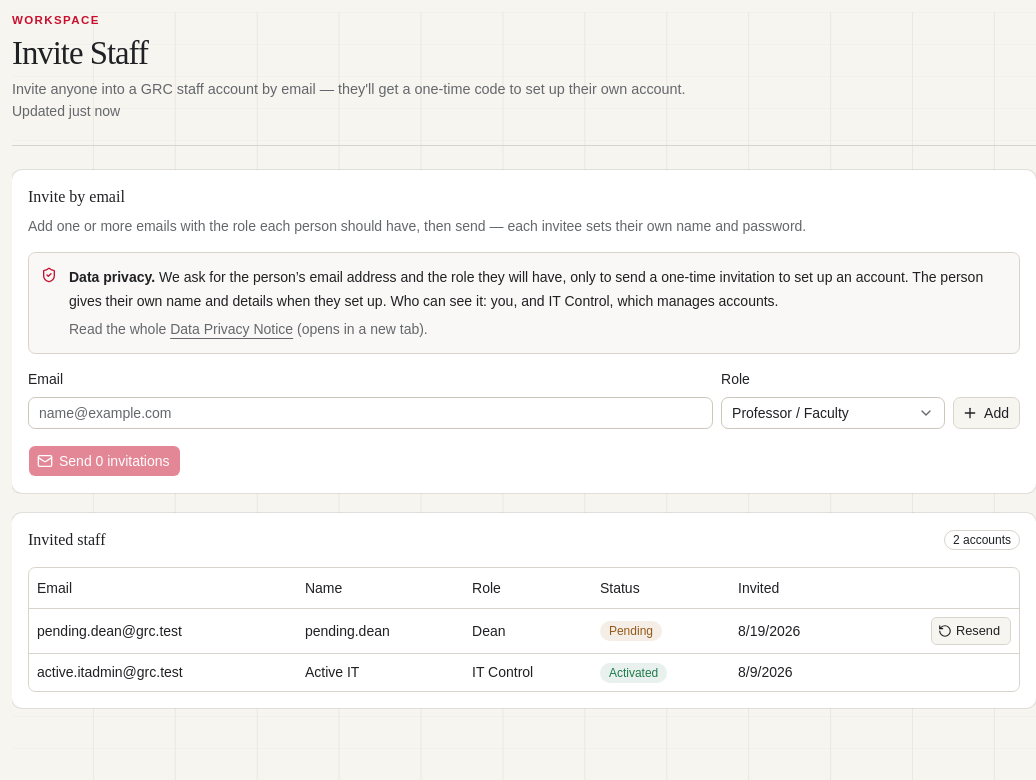
StaffInvitationWorkspace › queues one or more emails with a role each and sends them together
Check: the text "pending.dean@grc.test" is shown, box x1=29 y1=608 x2=297 y2=653
Type "first.new@grc.test" into the field labelled "Email". click: (371, 413)
box: x1=28 y1=397 x2=713 y2=429
Click the button "Add". click: (987, 413)
box: x1=953 y1=397 x2=1020 y2=429
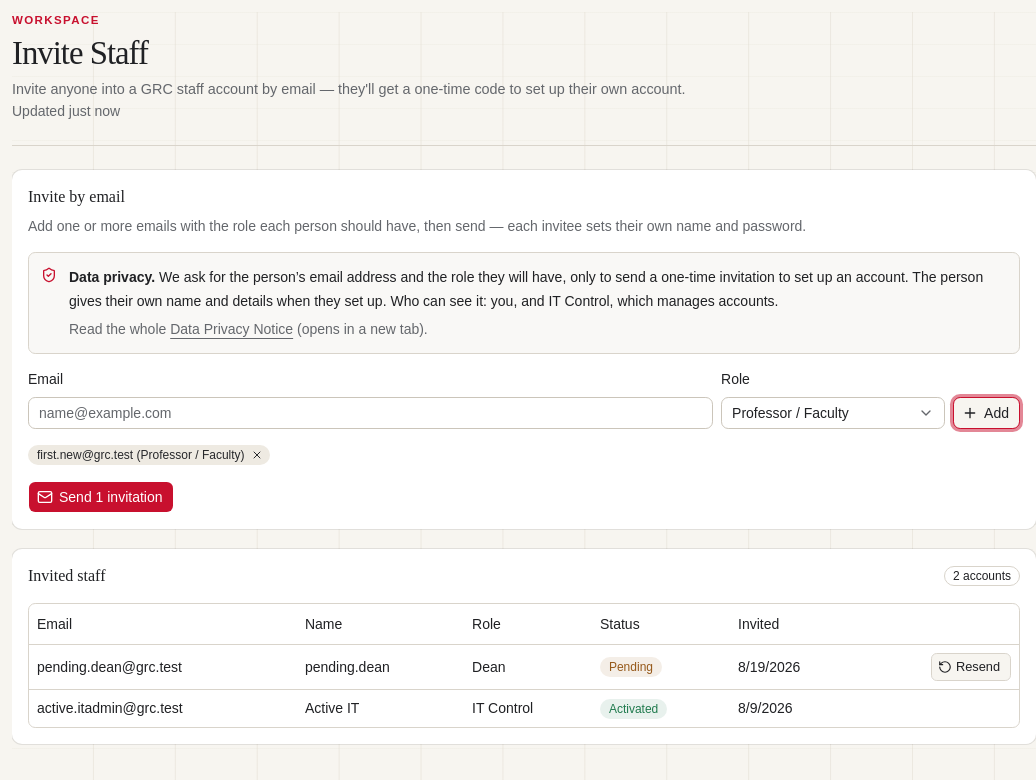
Click the dropdown named "Role". click: (833, 413)
box: x1=721 y1=397 x2=945 y2=429
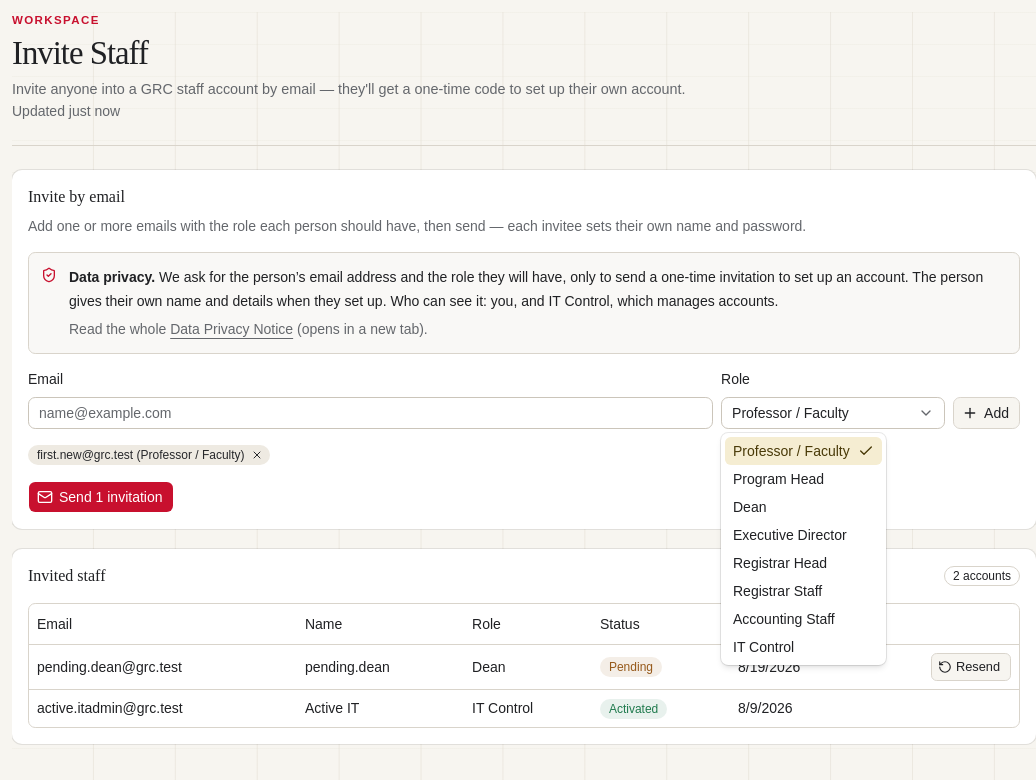
Click the option "IT Control". click: (764, 647)
box: x1=733 y1=639 x2=794 y2=655
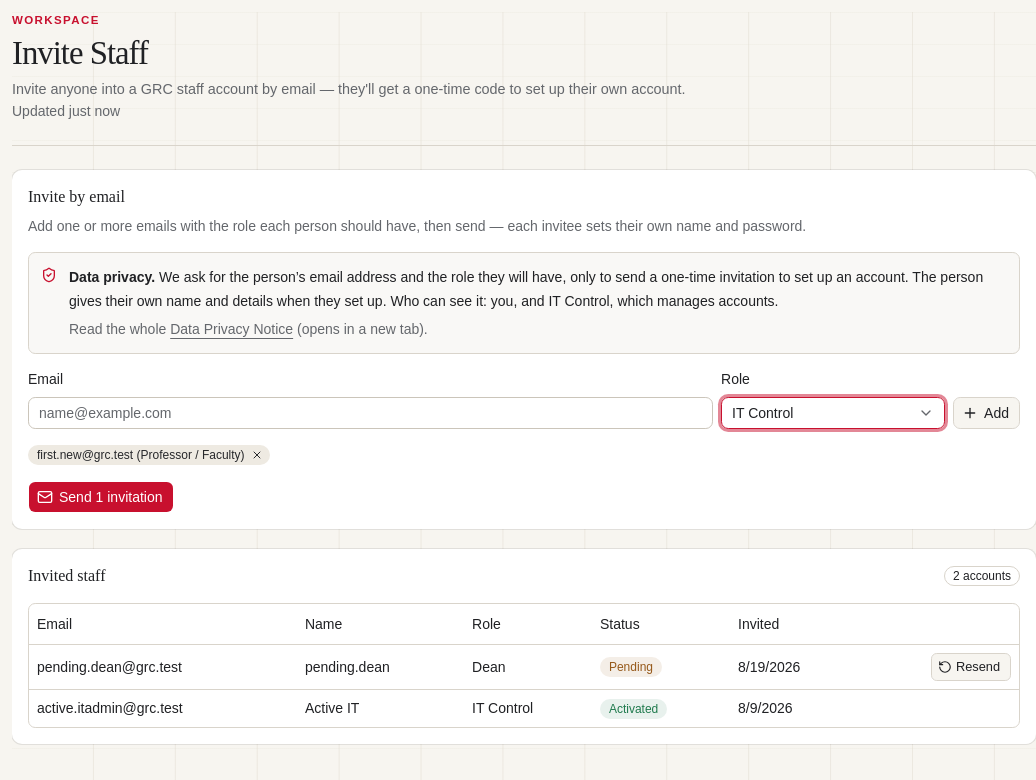
Type "second.new@grc.test" into the field labelled "Email". click: (371, 413)
box: x1=28 y1=397 x2=713 y2=429
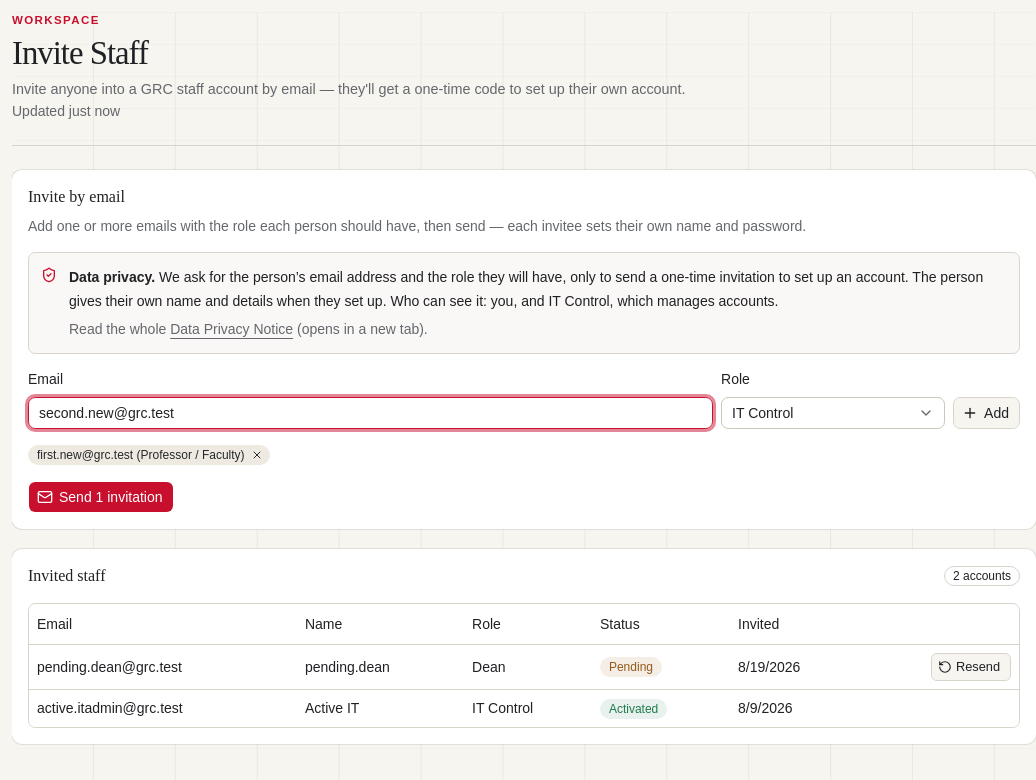
Click the button "Add". click: (987, 413)
box: x1=953 y1=397 x2=1020 y2=429
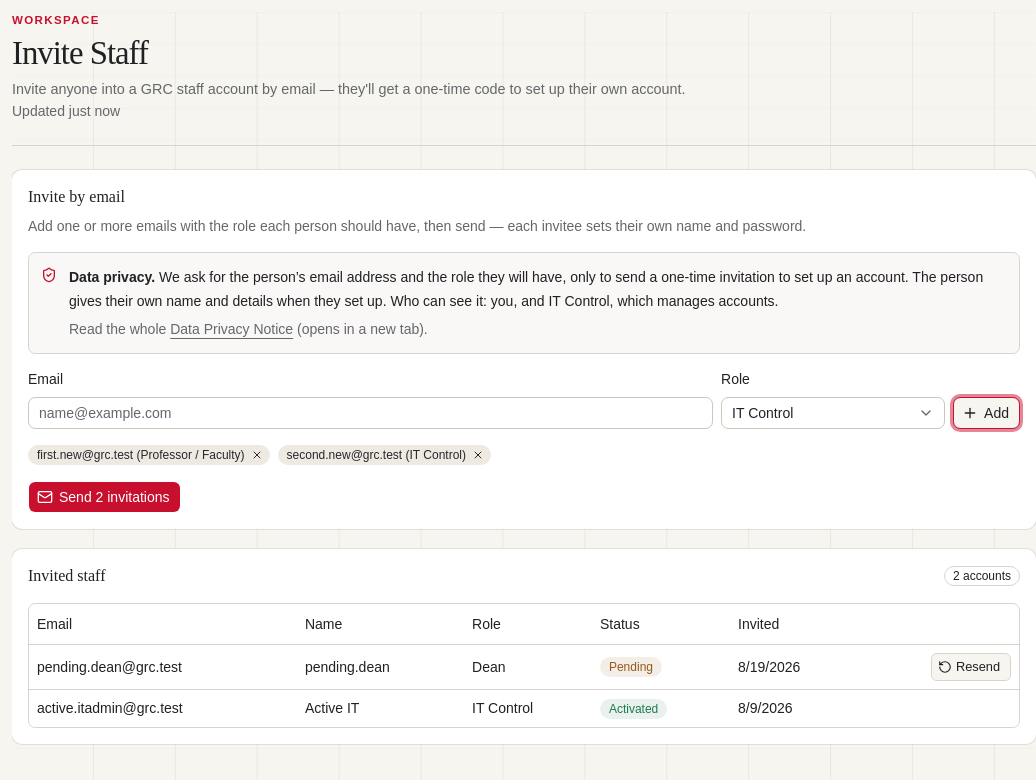
Check: the text "first.new@grc.test (Professor / Faculty)" is shown, box x1=28 y1=445 x2=270 y2=465
Check: the text "second.new@grc.test (IT Control)" is shown, box x1=278 y1=445 x2=491 y2=465
Click the button "Send 2 invitations". click: (104, 497)
box: x1=28 y1=481 x2=180 y2=513
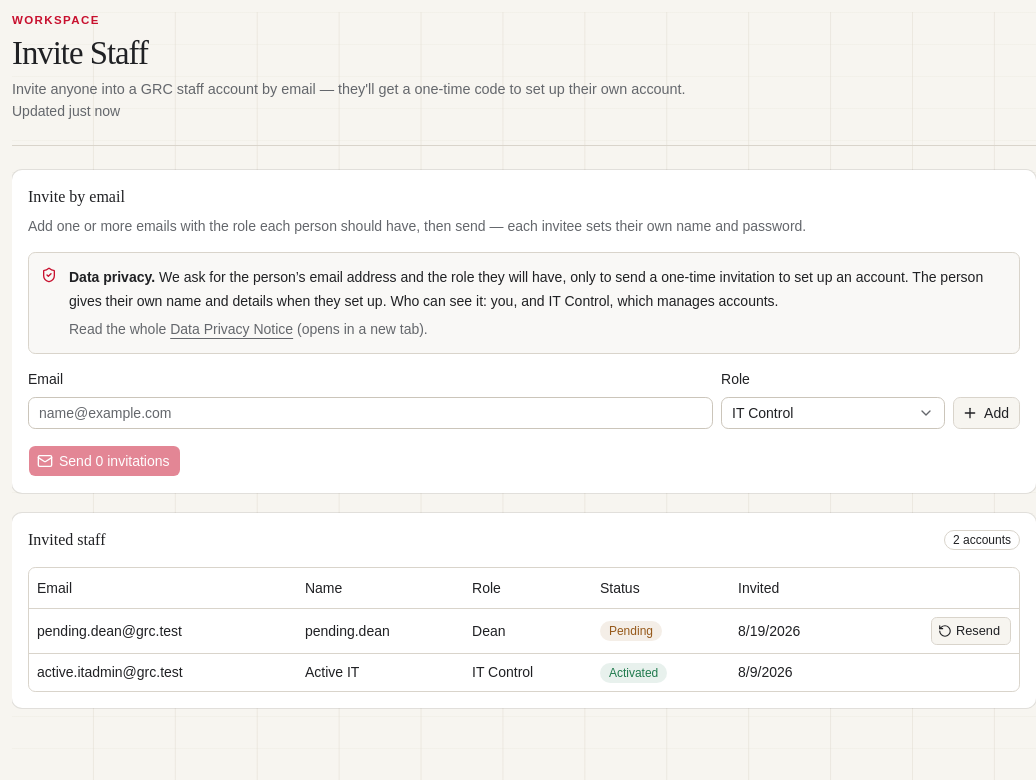
Check: the text "first.new@grc.test (Professor / Faculty)" is gone
